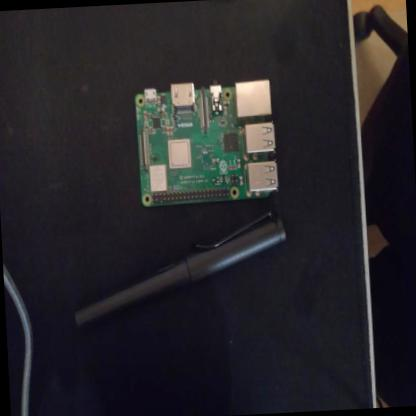Raspberry_Pi_3: (130, 74, 284, 213)
